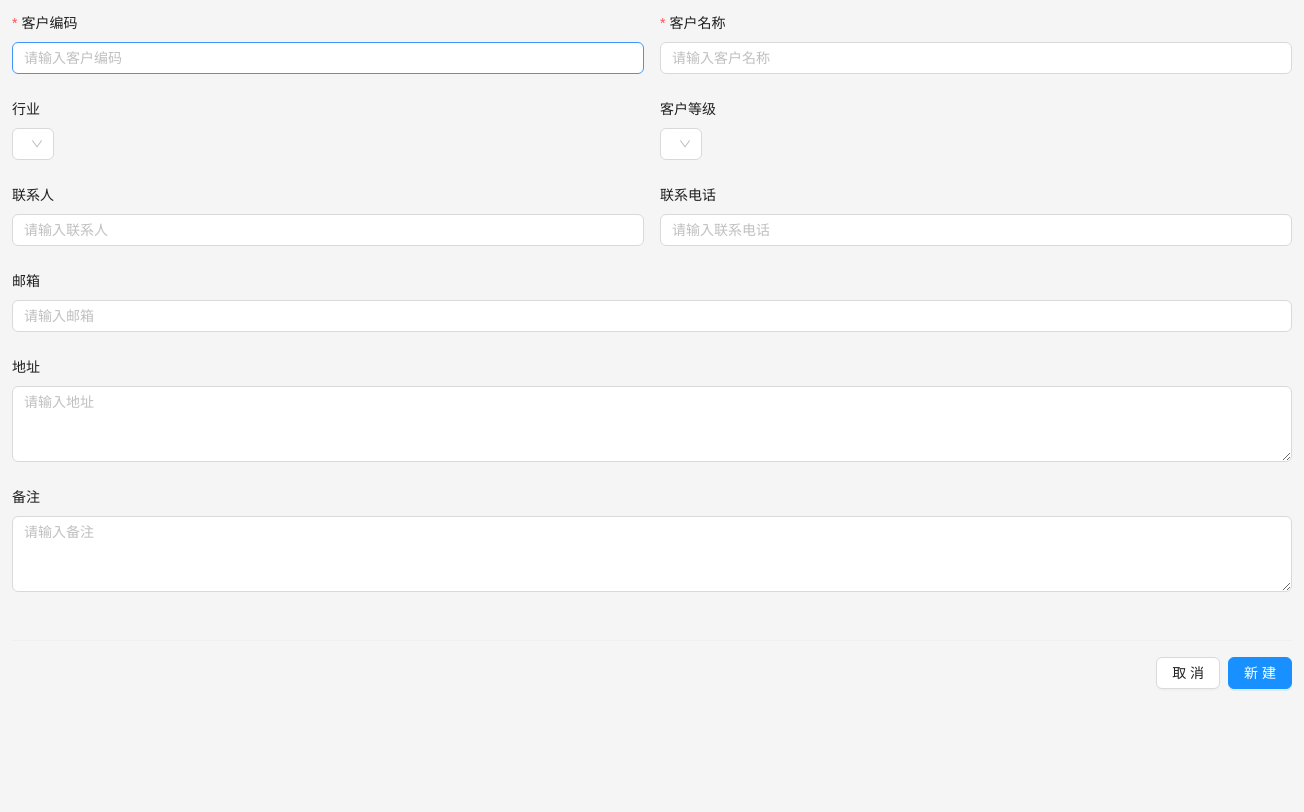
Test: CustomerForm › validates email format
In the field labelled "邮箱": [652, 316] box [12,300,1292,332], type "invalid-email"
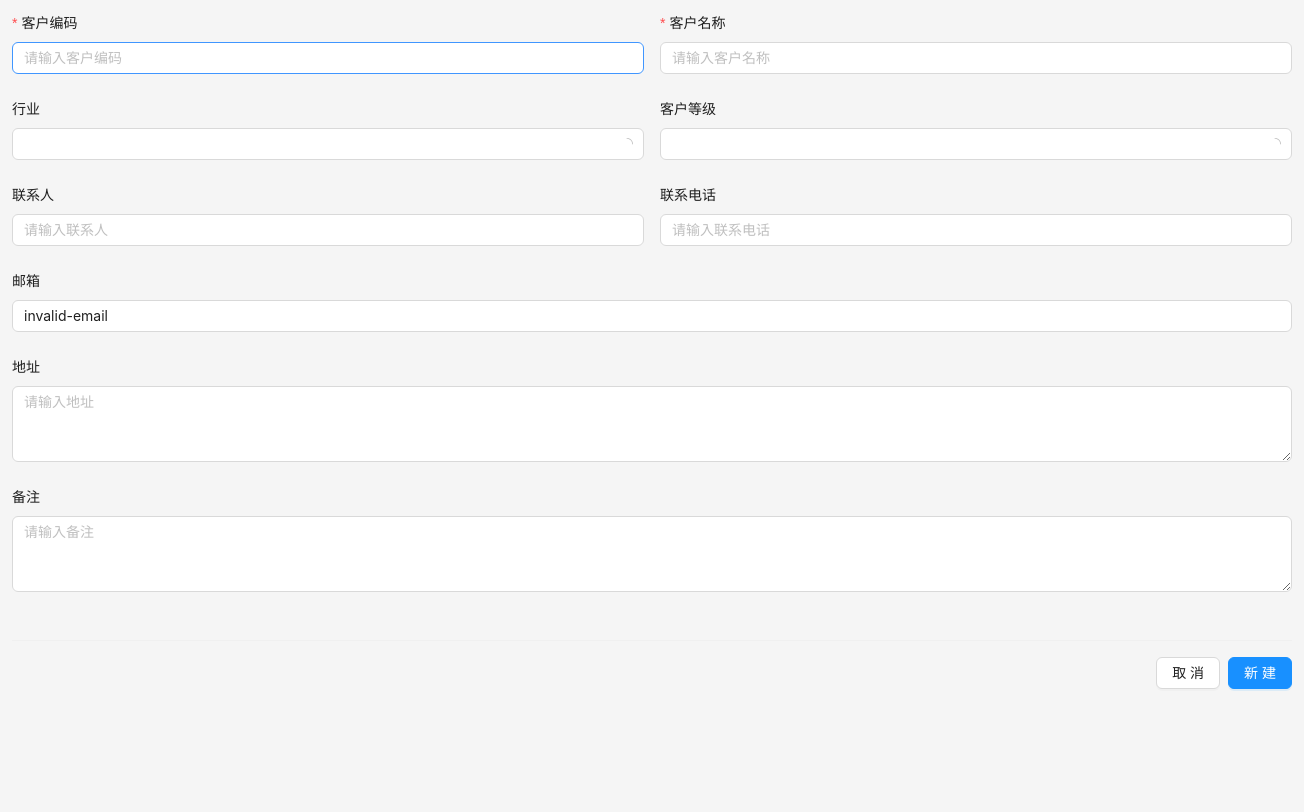
Leave the field labelled "邮箱", box [12,300,1292,332]
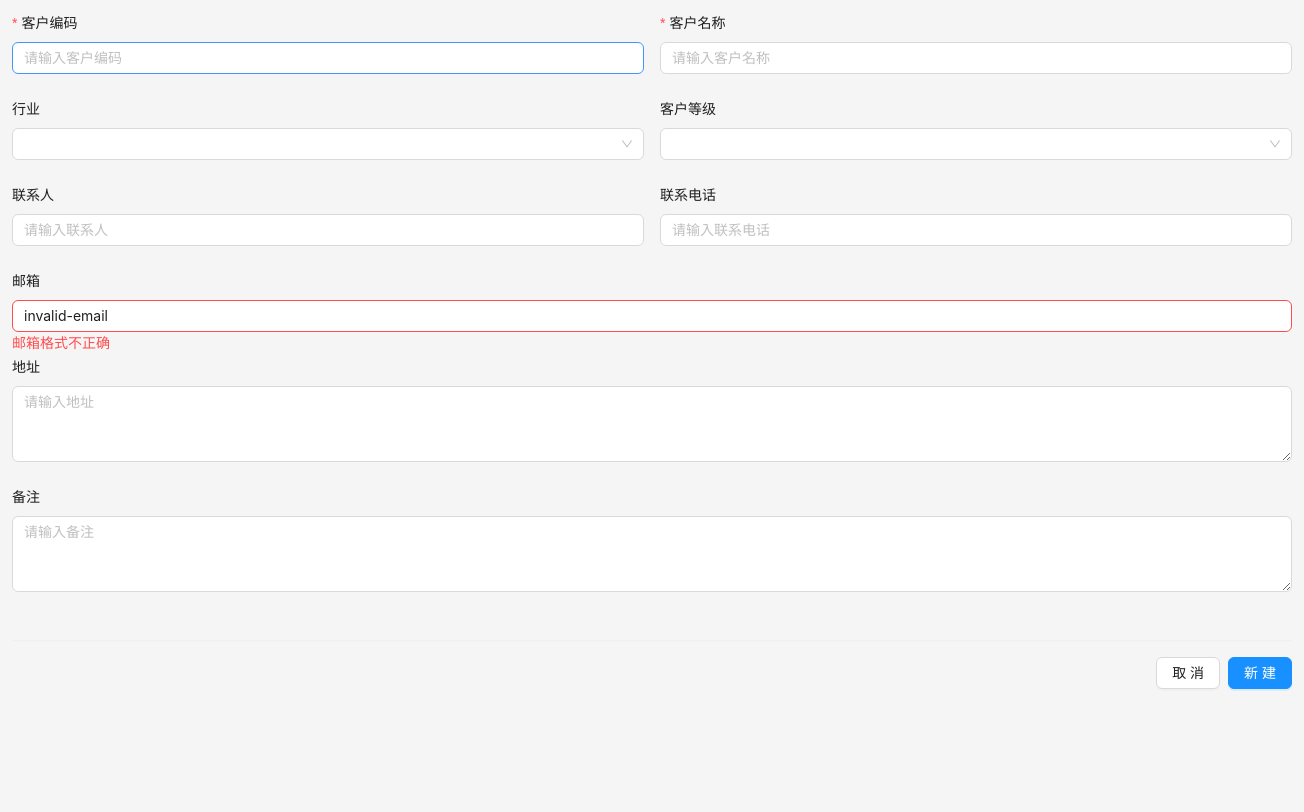
Now the text "邮箱格式不正确" is shown, box [12,332,110,354]
